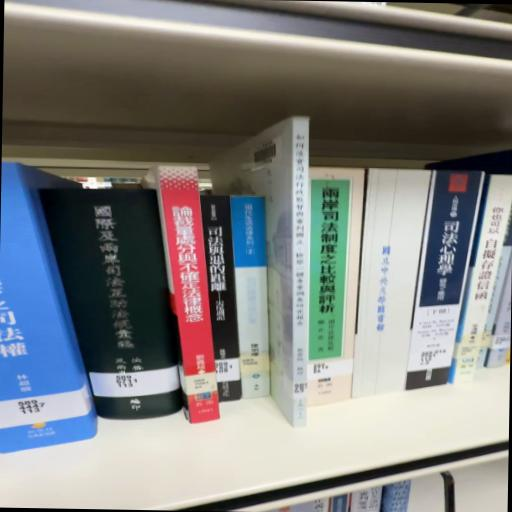backward: (354, 168, 431, 398)
book: (28, 181, 186, 425), (202, 116, 312, 438), (151, 170, 226, 430), (405, 169, 488, 392), (214, 198, 271, 409)
